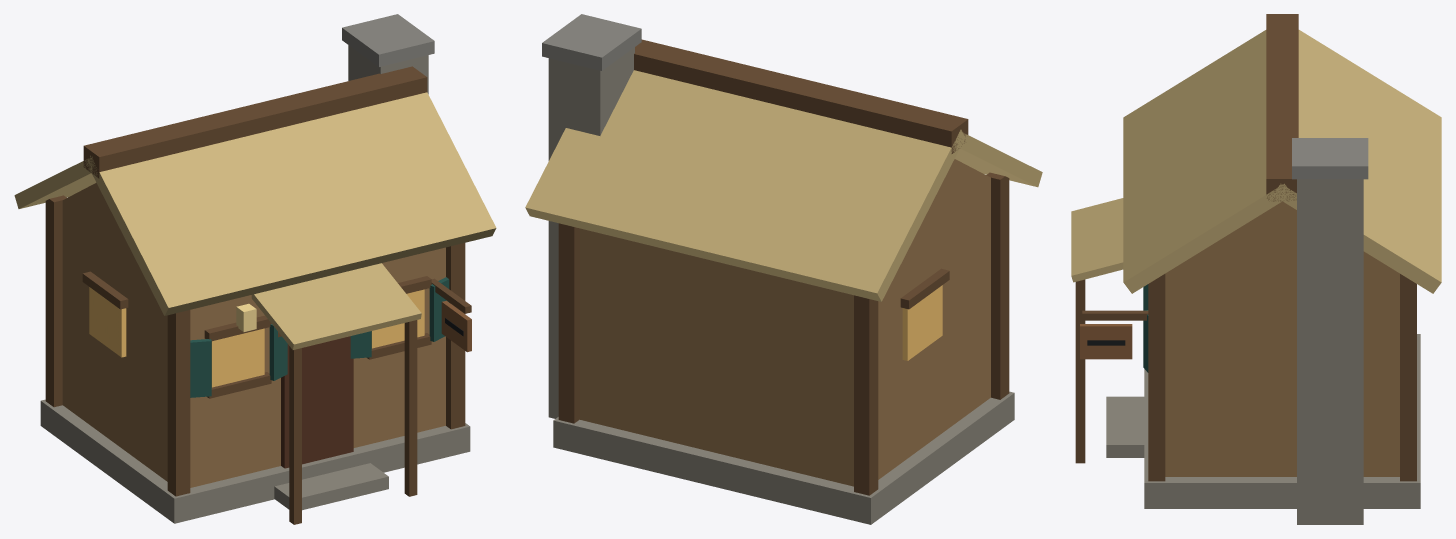
Rendered from Cove_Tavern.glb.
3 views of the same model, side by side, from view 1: azimuth 30°, elevation 25°; view 2: azimuth 150°, elevation 25°; view 3: azimuth 270°, elevation 25° (orthographic). The views are drawn at different scales.
Visible parts, largest first — view 1: Cove_Tavern; view 2: Cove_Tavern; view 3: Cove_Tavern.
Boxes of the visible parts, x1,y1,x2,y2 form: Cove_Tavern: (14, 14, 496, 524); Cove_Tavern: (525, 14, 1042, 524); Cove_Tavern: (1071, 14, 1441, 524).
Bounding box in the file's own units: 4.35 × 4.17 × 3.89.
1 material, 1 textured.
